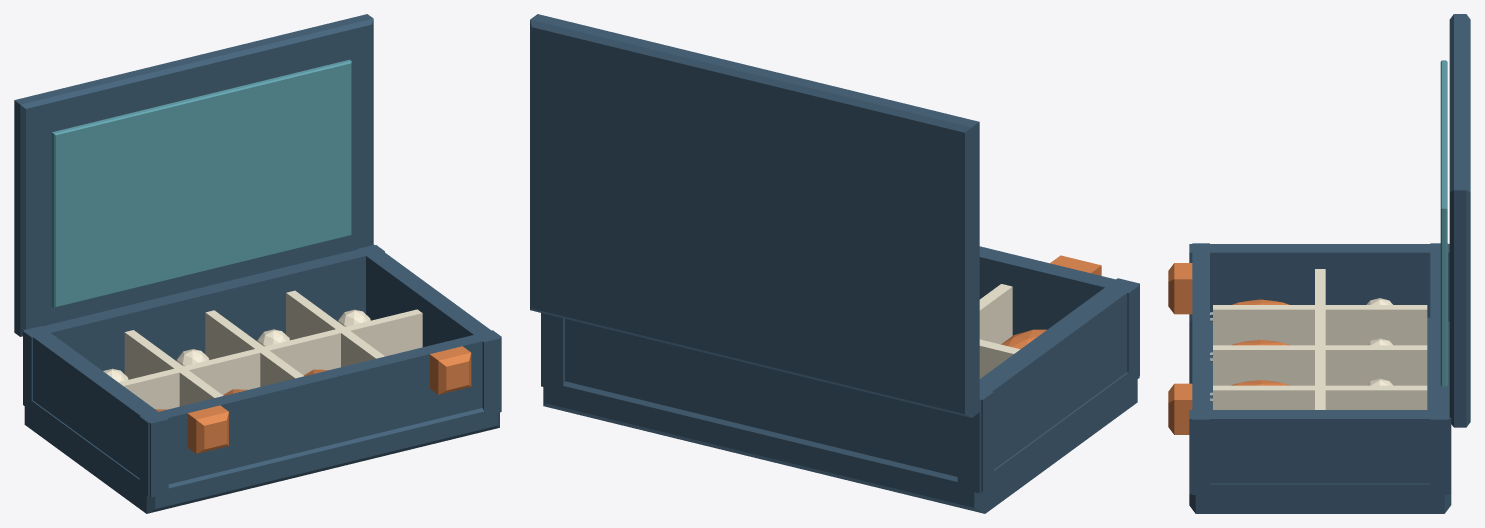
File: harbor-and-tackle-tackle-organizer-c12df8e1__19569.glb
The picture shows the model from 3 angles, left to right: view 1: azimuth 30°, elevation 25°; view 2: azimuth 150°, elevation 25°; view 3: azimuth 270°, elevation 25°; orthographic projection. The views are drawn at different scales.
Parts seen in each view (by area): view 1: navy, glass, ivory, orange; view 2: navy, ivory, orange; view 3: navy, ivory, orange, glass.
Boxes of the visible parts, x1=… form: navy: x1=14, y1=14, x2=501, y2=513; glass: x1=51, y1=59, x2=351, y2=307; ivory: x1=103, y1=290, x2=422, y2=409; orange: x1=155, y1=346, x2=471, y2=453; navy: x1=530, y1=14, x2=1139, y2=513; ivory: x1=979, y1=284, x2=1019, y2=378; orange: x1=1001, y1=255, x2=1101, y2=349; navy: x1=1189, y1=14, x2=1470, y2=513; ivory: x1=1213, y1=269, x2=1427, y2=409; orange: x1=1168, y1=263, x2=1289, y2=434; glass: x1=1440, y1=60, x2=1447, y2=386.
Size of the model in its own units: 0.7 by 0.6 by 0.5075.
